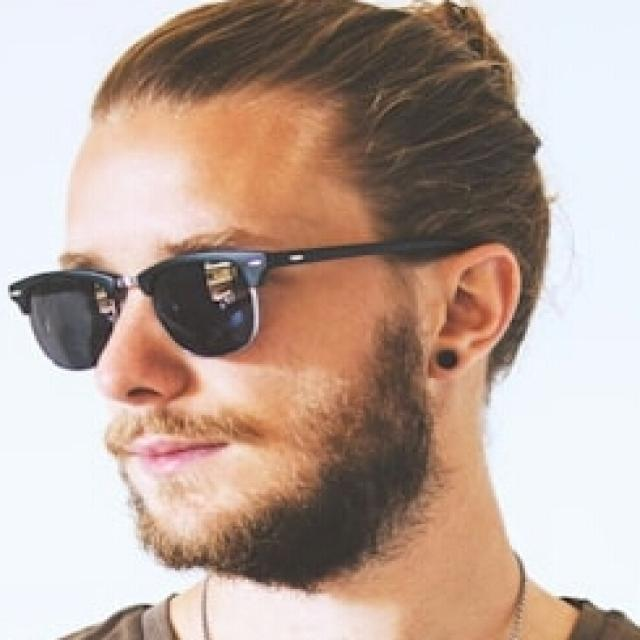front: (48, 212, 368, 496)
